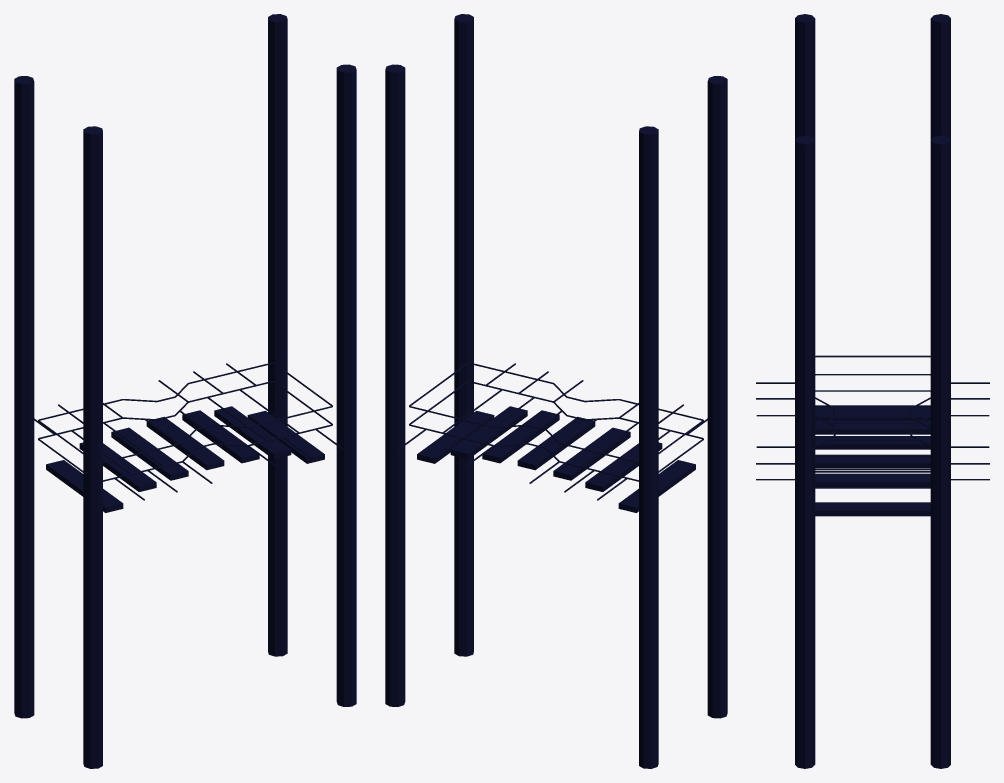
The model's file is playingfield_lightsoda_details.fbx.
3 views of the same model, side by side, from view 1: azimuth 30°, elevation 25°; view 2: azimuth 150°, elevation 25°; view 3: azimuth 270°, elevation 25° (orthographic).
Parts seen in each view (by area): view 1: details; view 2: details; view 3: details.
Boxes of the visible parts, x1,y1,x2,y2 form: details: (14,14,356,768); details: (385,14,727,768); details: (756,14,989,768).
Size of the model in its own units: 3051 by 6819 by 2313.
